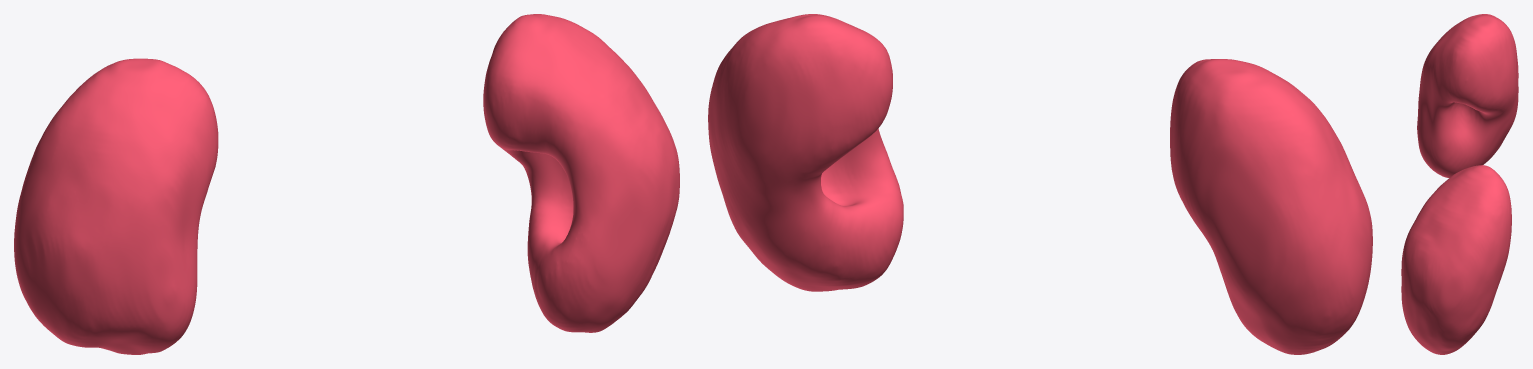
3 renders of one model, left to right at view 1: azimuth 30°, elevation 25°; view 2: azimuth 150°, elevation 25°; view 3: azimuth 270°, elevation 25°, orthographic. The views are drawn at different scales.
Visible parts, largest first — view 1: Object_2; view 2: Object_2; view 3: Object_2.
Boxes of the visible parts, bbox=[...] form: Object_2: bbox=[14, 14, 679, 354]; Object_2: bbox=[708, 14, 1372, 354]; Object_2: bbox=[1401, 14, 1518, 354].
Bounding box in the file's own units: 196 × 101 × 52.19.
